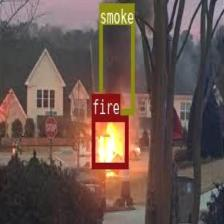fire: (92, 115, 128, 167)
smoke: (99, 2, 133, 114)
